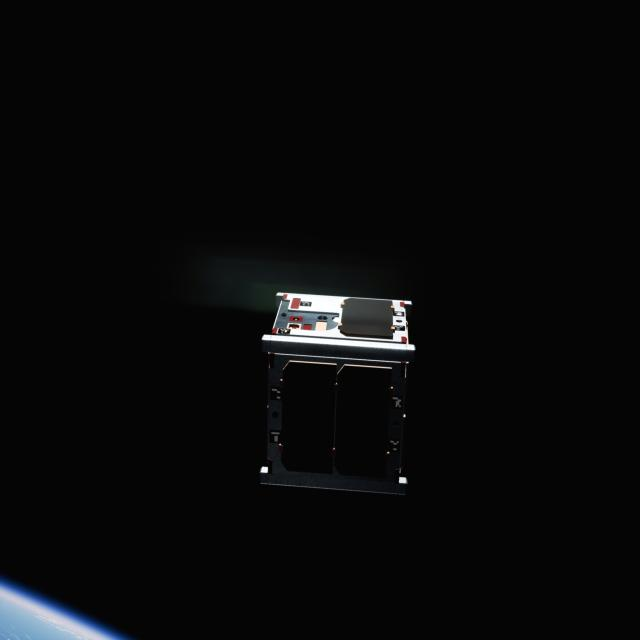satellite: (249, 284, 413, 506)
